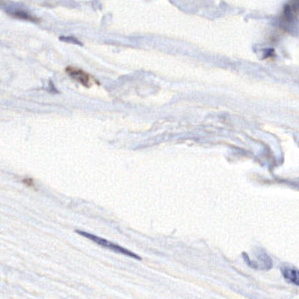Lymphocyte: (64, 62, 101, 90)
